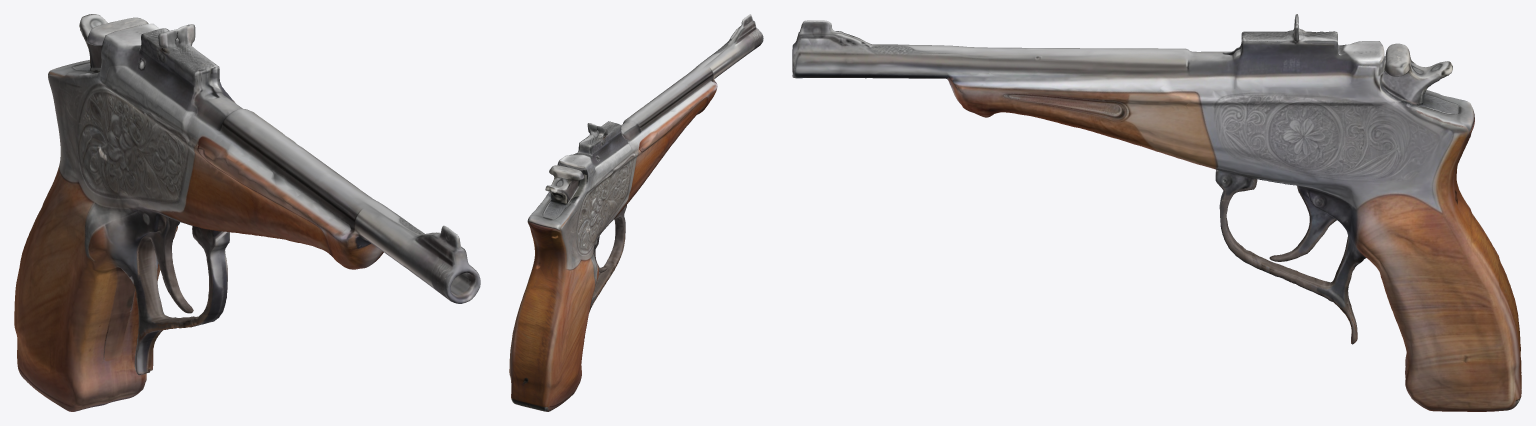
File: Pistol.fbx
The picture shows the model from 3 angles, left to right: view 1: azimuth 30°, elevation 25°; view 2: azimuth 150°, elevation 25°; view 3: azimuth 270°, elevation 25°; orthographic projection. The views are drawn at different scales.
Visible parts, largest first — view 1: Mesh_0; view 2: Mesh_0; view 3: Mesh_0.
Part boxes in pixels (x1,y1,x2,y2): Mesh_0: [14, 14, 480, 411]; Mesh_0: [509, 14, 763, 411]; Mesh_0: [792, 14, 1521, 411].
Bounding box in the file's own units: 24.73 × 115 × 200.
1 material, 1 textured.
